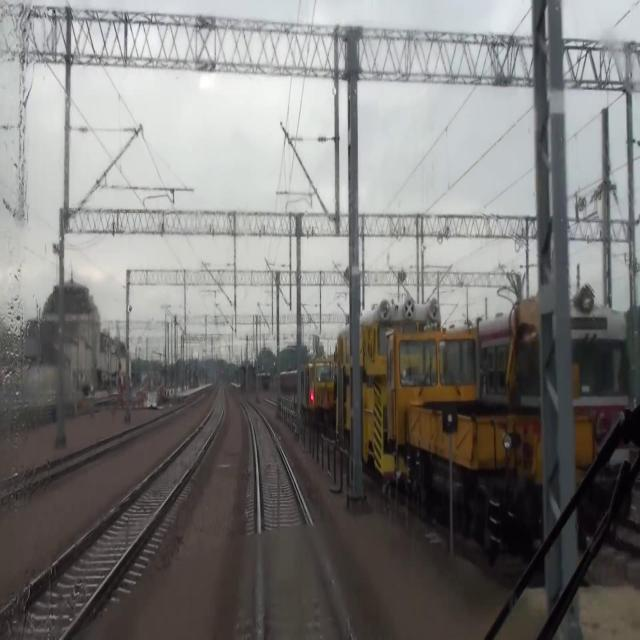rail-track: (0, 396, 221, 639), (241, 396, 350, 639), (0, 452, 88, 493)
